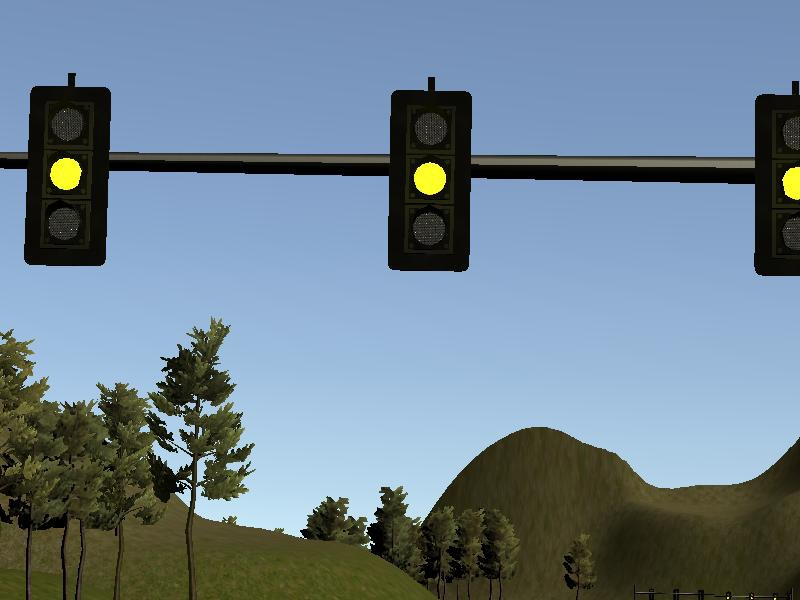yellow: (388, 91, 471, 269), (29, 84, 104, 267), (755, 92, 800, 276)
